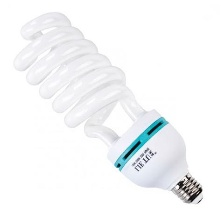light_bulb: (10, 8, 210, 207)
